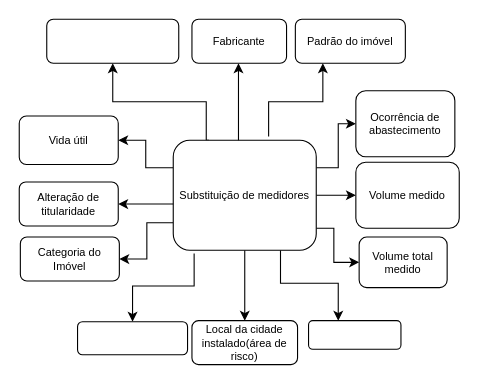
Image size: 479x384. Some labels were removed from this diagram. Each missing label, with the centre of its shape:
Fraudes/Ocorrências: [112,40]
Tipo de medidor: [132,338]
Tipo de tarifa: [354,334]
